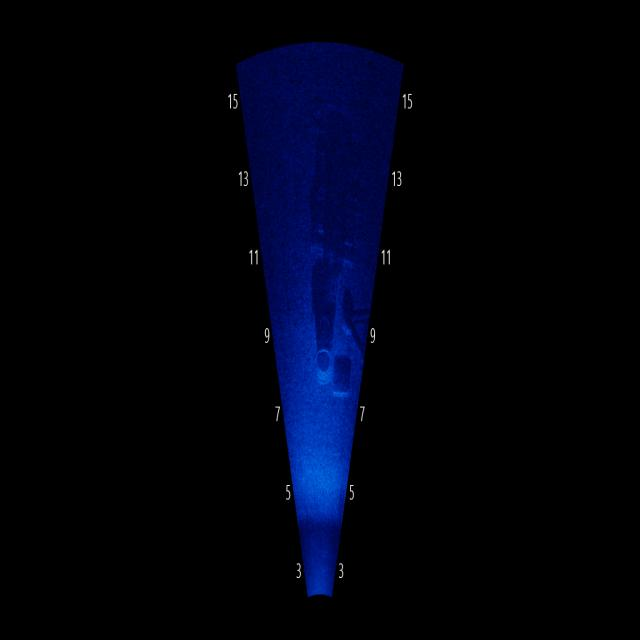circle: (306, 322, 335, 403)
square: (292, 105, 371, 263), (334, 341, 354, 433)
